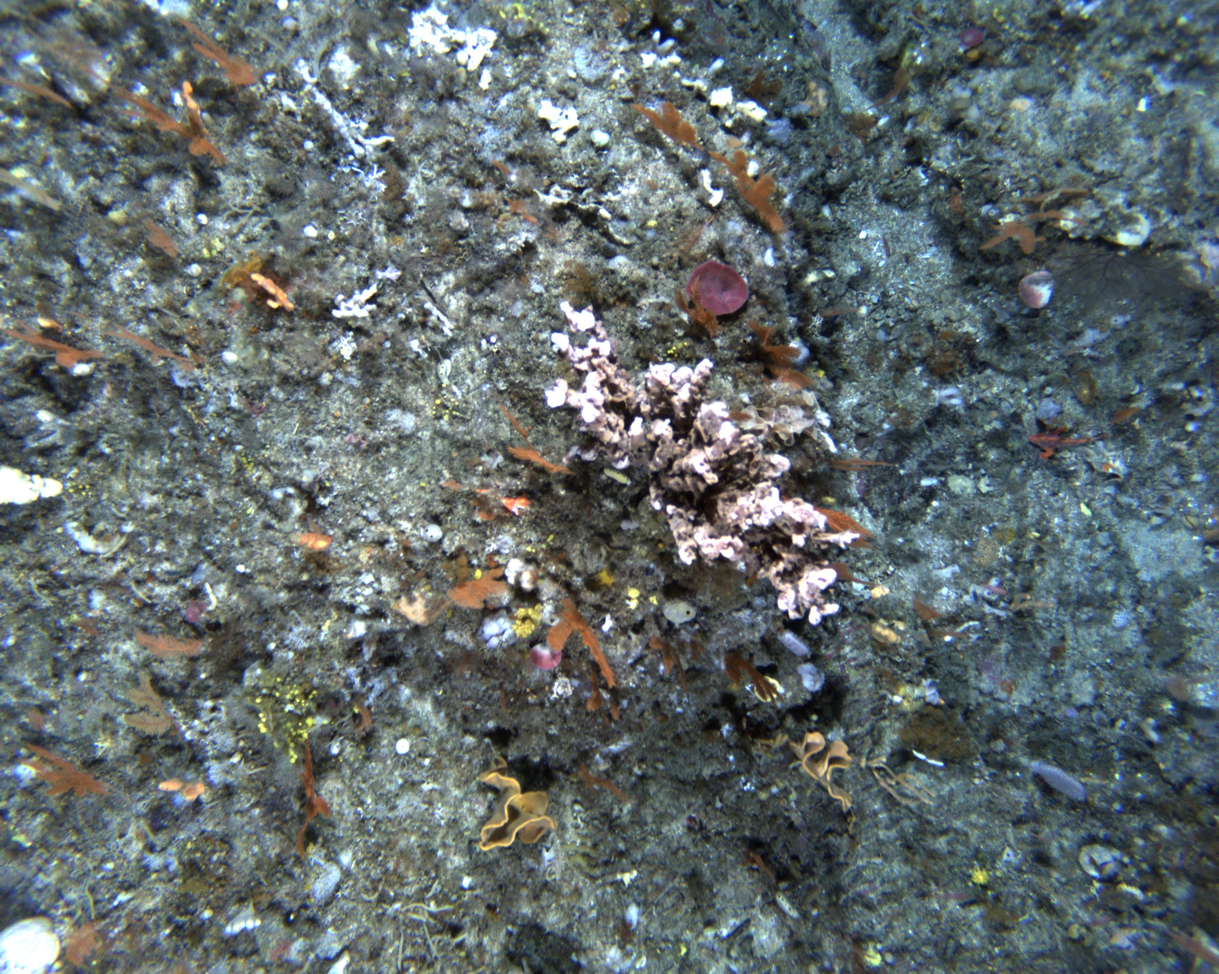Brachionichthyidae: (1027, 424, 1114, 461)
